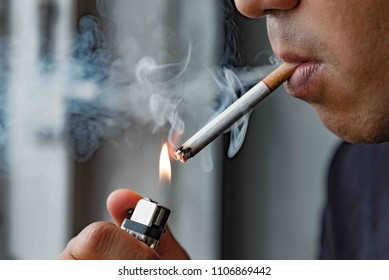cigarette: (171, 58, 306, 166)
